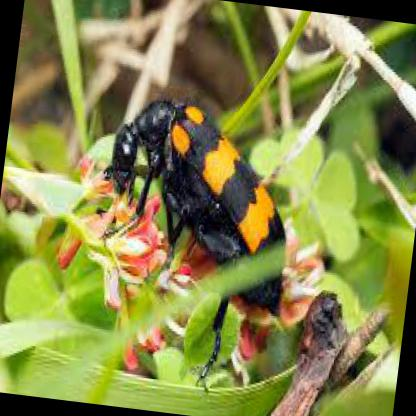blister beetle: (106, 96, 285, 333)
